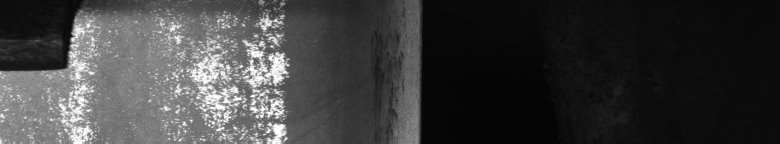kb: (4, 4, 292, 136)
